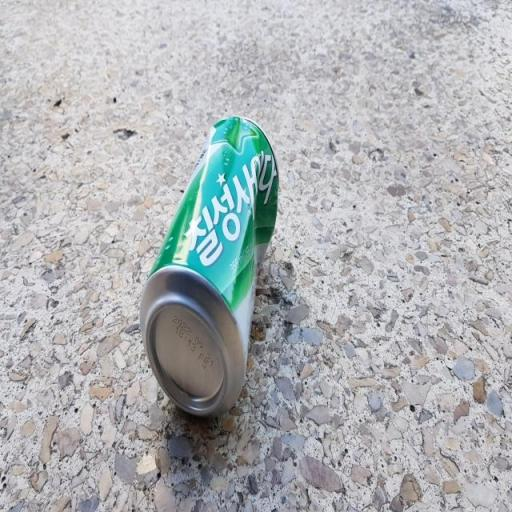metal: (125, 100, 314, 484)
